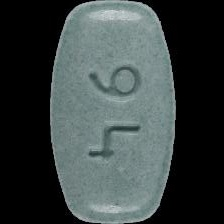31722-819: (0, 0, 224, 224)
